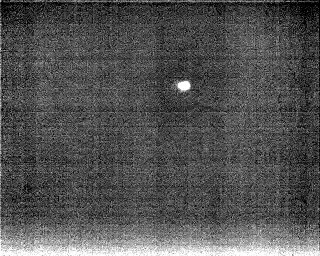AIRPLANE: (175, 79, 193, 94)
